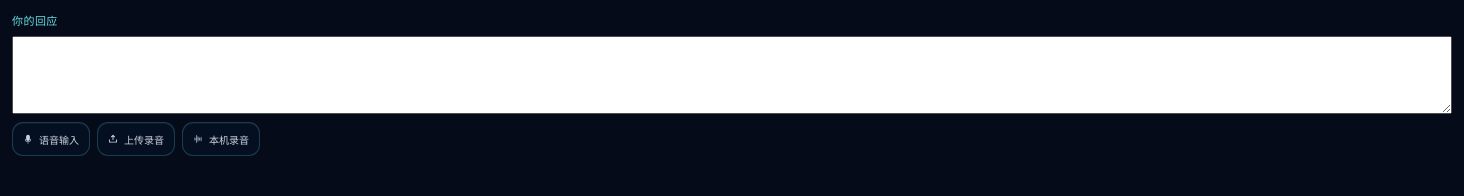
Test: UtteranceInput recording lifecycle › releases the microphone stream when recorder initialization fails
This screenshot has width=1464, height=196.
Click the button "语音输入" at (51,139), box [12, 122, 90, 156]
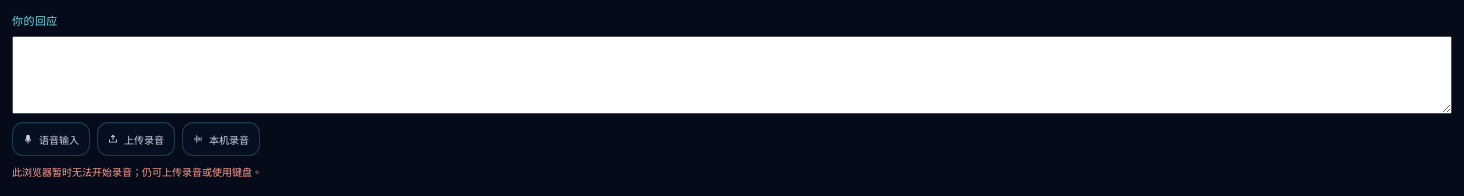
Expected: the text box labelled "你的回应" is enabled, [12, 36, 1452, 114]
Result: the text "此浏览器暂时无法开始录音；仍可上传录音或使用键盘。" is shown at [12, 164, 262, 179]
